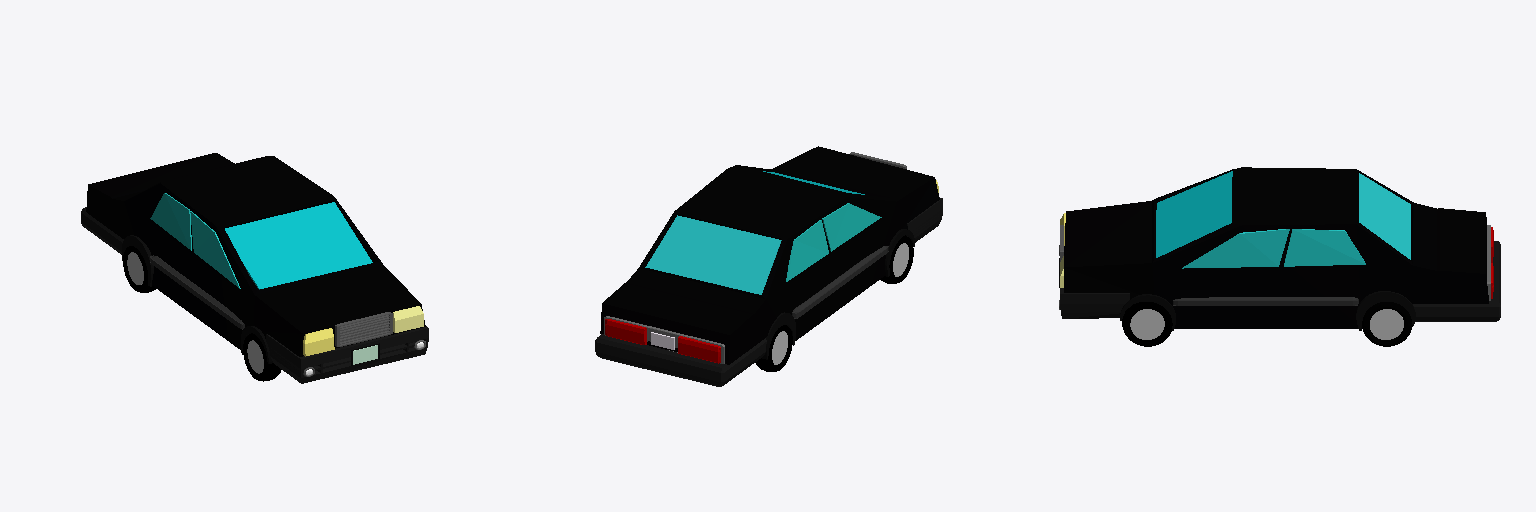
The model's file is enemy.obj.
3 renders of one model, left to right at view 1: azimuth 30°, elevation 25°; view 2: azimuth 150°, elevation 25°; view 3: azimuth 270°, elevation 25°, orthographic.
Visible parts, largest first — view 1: Cube, 立方体.012_立方体.015, 立方体_立方体.001, 立方体.010_立方体.011, 立方体.005_立方体.006, 立方体.014_立方体.017, 立方体.006_立方体.007, 立方体.003_立方体.004, 立方体.004_立方体.005, Torus.005_Torus.008; view 2: Cube, 立方体.013_立方体.016, 立方体.006_立方体.007, 立方体.010_立方体.011, 立方体.007_立方体.008, 立方体.014_立方体.017, 立方体_立方体.001, Torus.006_Torus.009, 立方体.008_立方体.009; view 3: Cube, 立方体.011_立方体.014, 立方体.012_立方体.015, 立方体.013_立方体.016, 立方体.006_立方体.007, 立方体_立方体.001, 立方体.014_立方体.017, Torus.003, Torus.004_Torus.007, 円柱.002, 円柱.003_円柱.006, 円柱.001.
Part boxes in pixels (bbox=[...]): Cube: bbox=[86, 153, 425, 356]; 立方体.012_立方体.015: bbox=[225, 202, 372, 289]; 立方体_立方体.001: bbox=[266, 326, 428, 383]; 立方体.010_立方体.011: bbox=[150, 193, 240, 288]; 立方体.005_立方体.006: bbox=[335, 312, 392, 346]; 立方体.014_立方体.017: bbox=[150, 255, 244, 329]; 立方体.006_立方体.007: bbox=[81, 207, 123, 254]; 立方体.003_立方体.004: bbox=[303, 328, 334, 356]; 立方体.004_立方体.005: bbox=[393, 306, 423, 332]; Torus.005_Torus.008: bbox=[243, 333, 281, 381]; Cube: bbox=[600, 146, 939, 364]; 立方体.013_立方体.016: bbox=[645, 215, 781, 294]; 立方体.006_立方体.007: bbox=[595, 334, 766, 386]; 立方体.010_立方体.011: bbox=[786, 203, 881, 281]; 立方体.007_立方体.008: bbox=[605, 319, 720, 363]; 立方体.014_立方体.017: bbox=[792, 246, 888, 318]; 立方体_立方体.001: bbox=[907, 197, 942, 242]; Torus.006_Torus.009: bbox=[755, 325, 792, 371]; 立方体.008_立方体.009: bbox=[604, 316, 724, 363]; Cube: bbox=[1064, 167, 1488, 328]; 立方体.011_立方体.014: bbox=[1182, 229, 1365, 268]; 立方体.012_立方体.015: bbox=[1156, 171, 1232, 257]; 立方体.013_立方体.016: bbox=[1359, 173, 1410, 259]; 立方体.006_立方体.007: bbox=[1413, 241, 1500, 321]; 立方体_立方体.001: bbox=[1060, 288, 1129, 318]; 立方体.014_立方体.017: bbox=[1173, 297, 1358, 305]; Torus.003: bbox=[1122, 302, 1172, 346]; Torus.004_Torus.007: bbox=[1362, 302, 1412, 346]; 円柱.002: bbox=[1130, 309, 1164, 339]; 円柱.003_円柱.006: bbox=[1370, 309, 1403, 339]; 円柱.001: bbox=[1356, 291, 1415, 330].
Bounding box in the file's own units: 2.93 × 2.44 × 8.17.